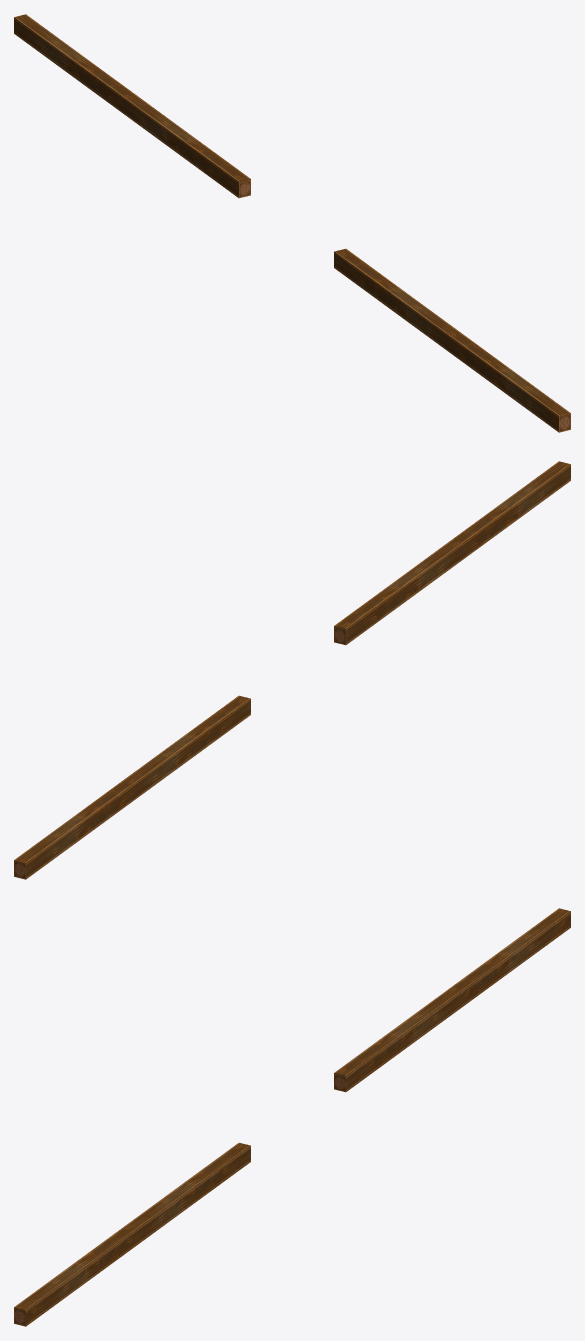
3 views of the same model, one above another, from view 1: azimuth 30°, elevation 25°; view 2: azimuth 150°, elevation 25°; view 3: azimuth 330°, elevation 25° (orthographic).
Parts seen in each view (by area): view 1: 4x4.088; view 2: 4x4.088; view 3: 4x4.088.
Boxes of the visible parts, bbox=[...] form: 4x4.088: bbox=[14, 14, 570, 432]; 4x4.088: bbox=[14, 461, 570, 879]; 4x4.088: bbox=[14, 908, 570, 1326].
Size of the model in its own units: 16.61 by 21.91 by 1311.
1 material, 1 textured.
